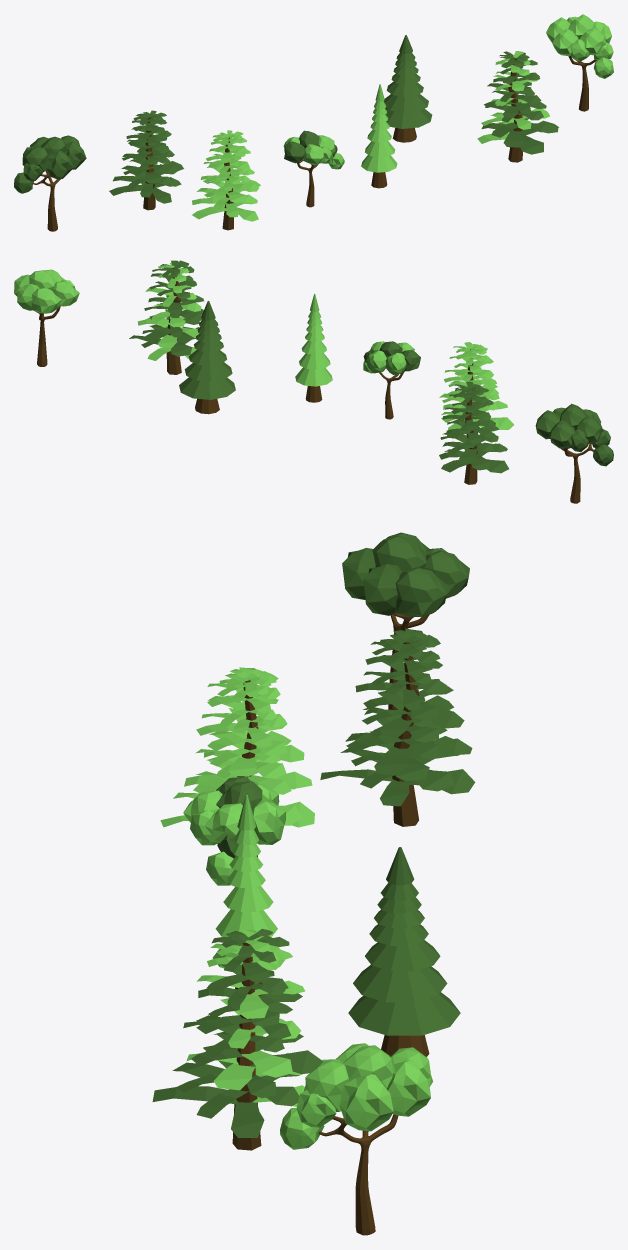
Rendered from Trees.fbx.
3 renders of one model, top to bottom at view 1: azimuth 30°, elevation 25°; view 2: azimuth 150°, elevation 25°; view 3: azimuth 270°, elevation 25°, orthographic. The views are drawn at different scales.
Parts seen in each view (by area): view 1: Tree6, Tree8, Tree7, Tree3, Tree5, Tree2, Tree1, Tree4; view 2: Tree6, Tree7, Tree2, Tree5, Tree3, Tree8, Tree1, Tree4; view 3: Tree6, Tree7, Tree2, Tree3, Tree8, Tree5, Tree4, Tree1.
Boxes of the visible parts, x1,y1,x2,y2 form: Tree6: (477, 51, 558, 162); Tree8: (192, 130, 260, 230); Tree7: (109, 110, 183, 210); Tree3: (546, 14, 613, 111); Tree5: (14, 135, 86, 231); Tree2: (384, 35, 432, 142); Tree1: (361, 84, 397, 188); Tree4: (283, 130, 344, 207); Tree6: (129, 260, 203, 374); Tree7: (439, 382, 508, 484); Tree2: (179, 301, 235, 414); Tree5: (535, 403, 613, 503); Tree3: (14, 269, 79, 366); Tree8: (439, 342, 513, 433); Tree1: (295, 293, 332, 402); Tree4: (363, 341, 420, 419); Tree6: (152, 928, 321, 1150); Tree7: (320, 628, 475, 826); Tree2: (348, 847, 460, 1056); Tree3: (280, 1043, 432, 1235); Tree8: (160, 667, 314, 857); Tree5: (342, 532, 469, 710); Tree4: (183, 776, 285, 885); Tree1: (212, 795, 284, 996).
Bounding box in the file's own units: 394 × 73.42 × 94.31.
